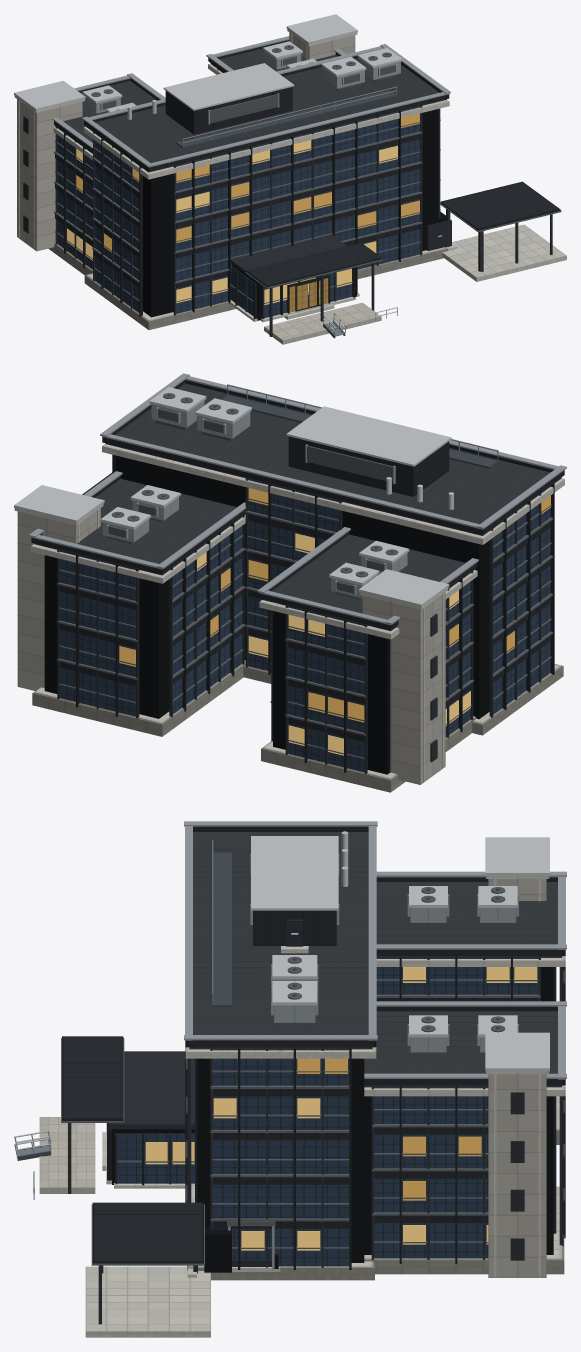
The model's file is civic-information-age-clinic-built.glb.
The picture shows the model from 3 angles, top to bottom: view 1: azimuth 30°, elevation 25°; view 2: azimuth 150°, elevation 25°; view 3: azimuth 270°, elevation 25°; orthographic projection. The views are drawn at different scales.
Size of the model in its own units: 48.12 by 21.96 by 39.72.
Materials: 45 (34 with a texture image).
